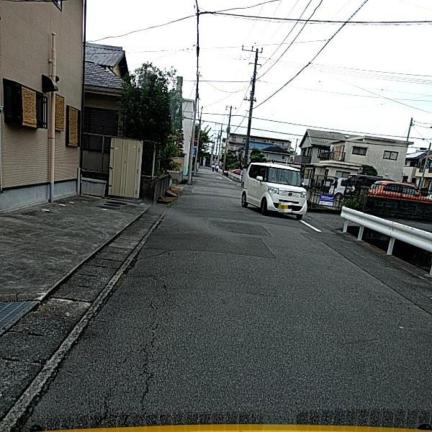Road: (23, 169, 431, 430)
